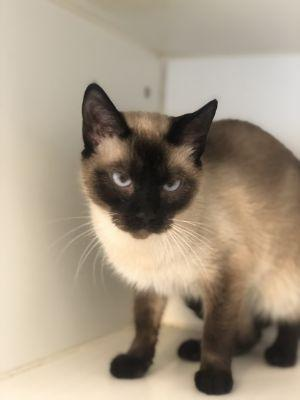siamese: (70, 83, 235, 245)
